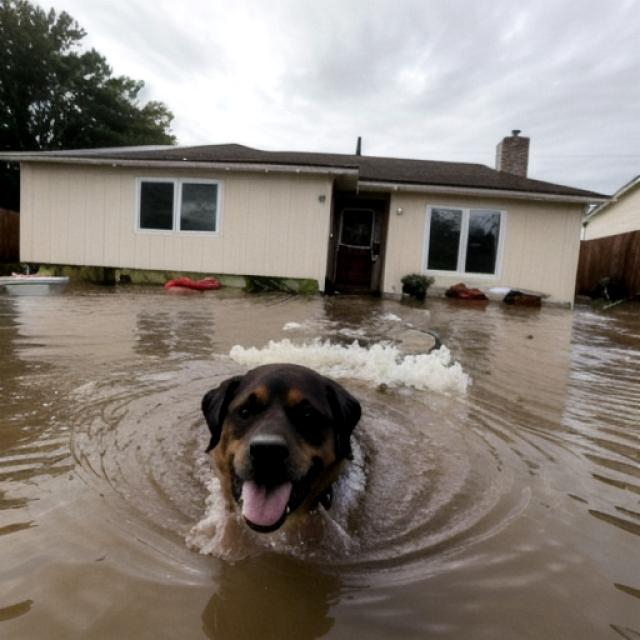dog: (195, 347, 375, 544)
